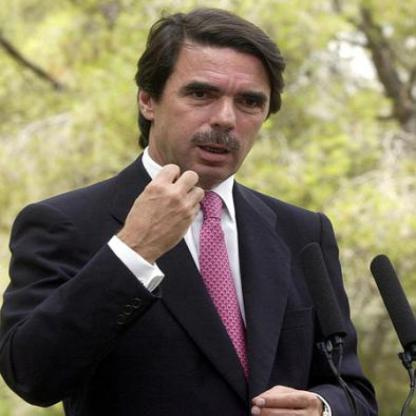face: (156, 18, 276, 186)
